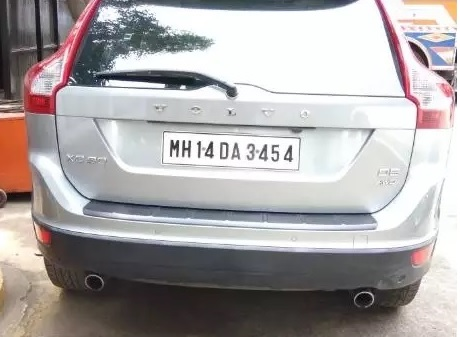licenseplate: (159, 128, 304, 172)
